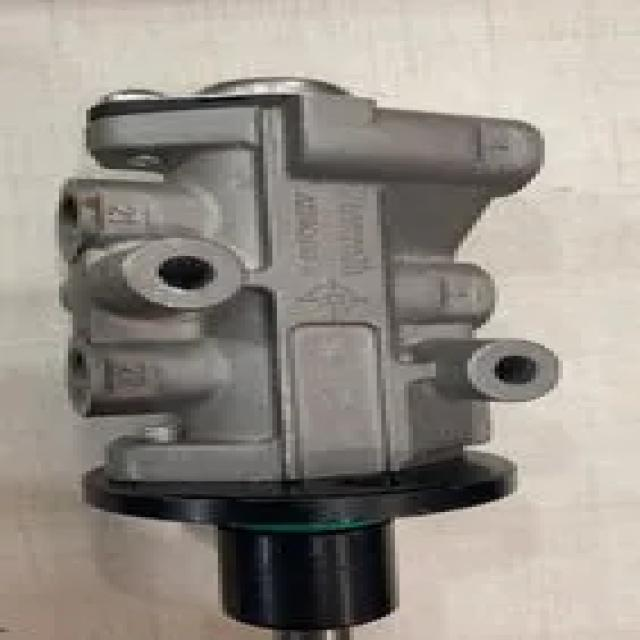video_frame: (50, 68, 570, 640)
